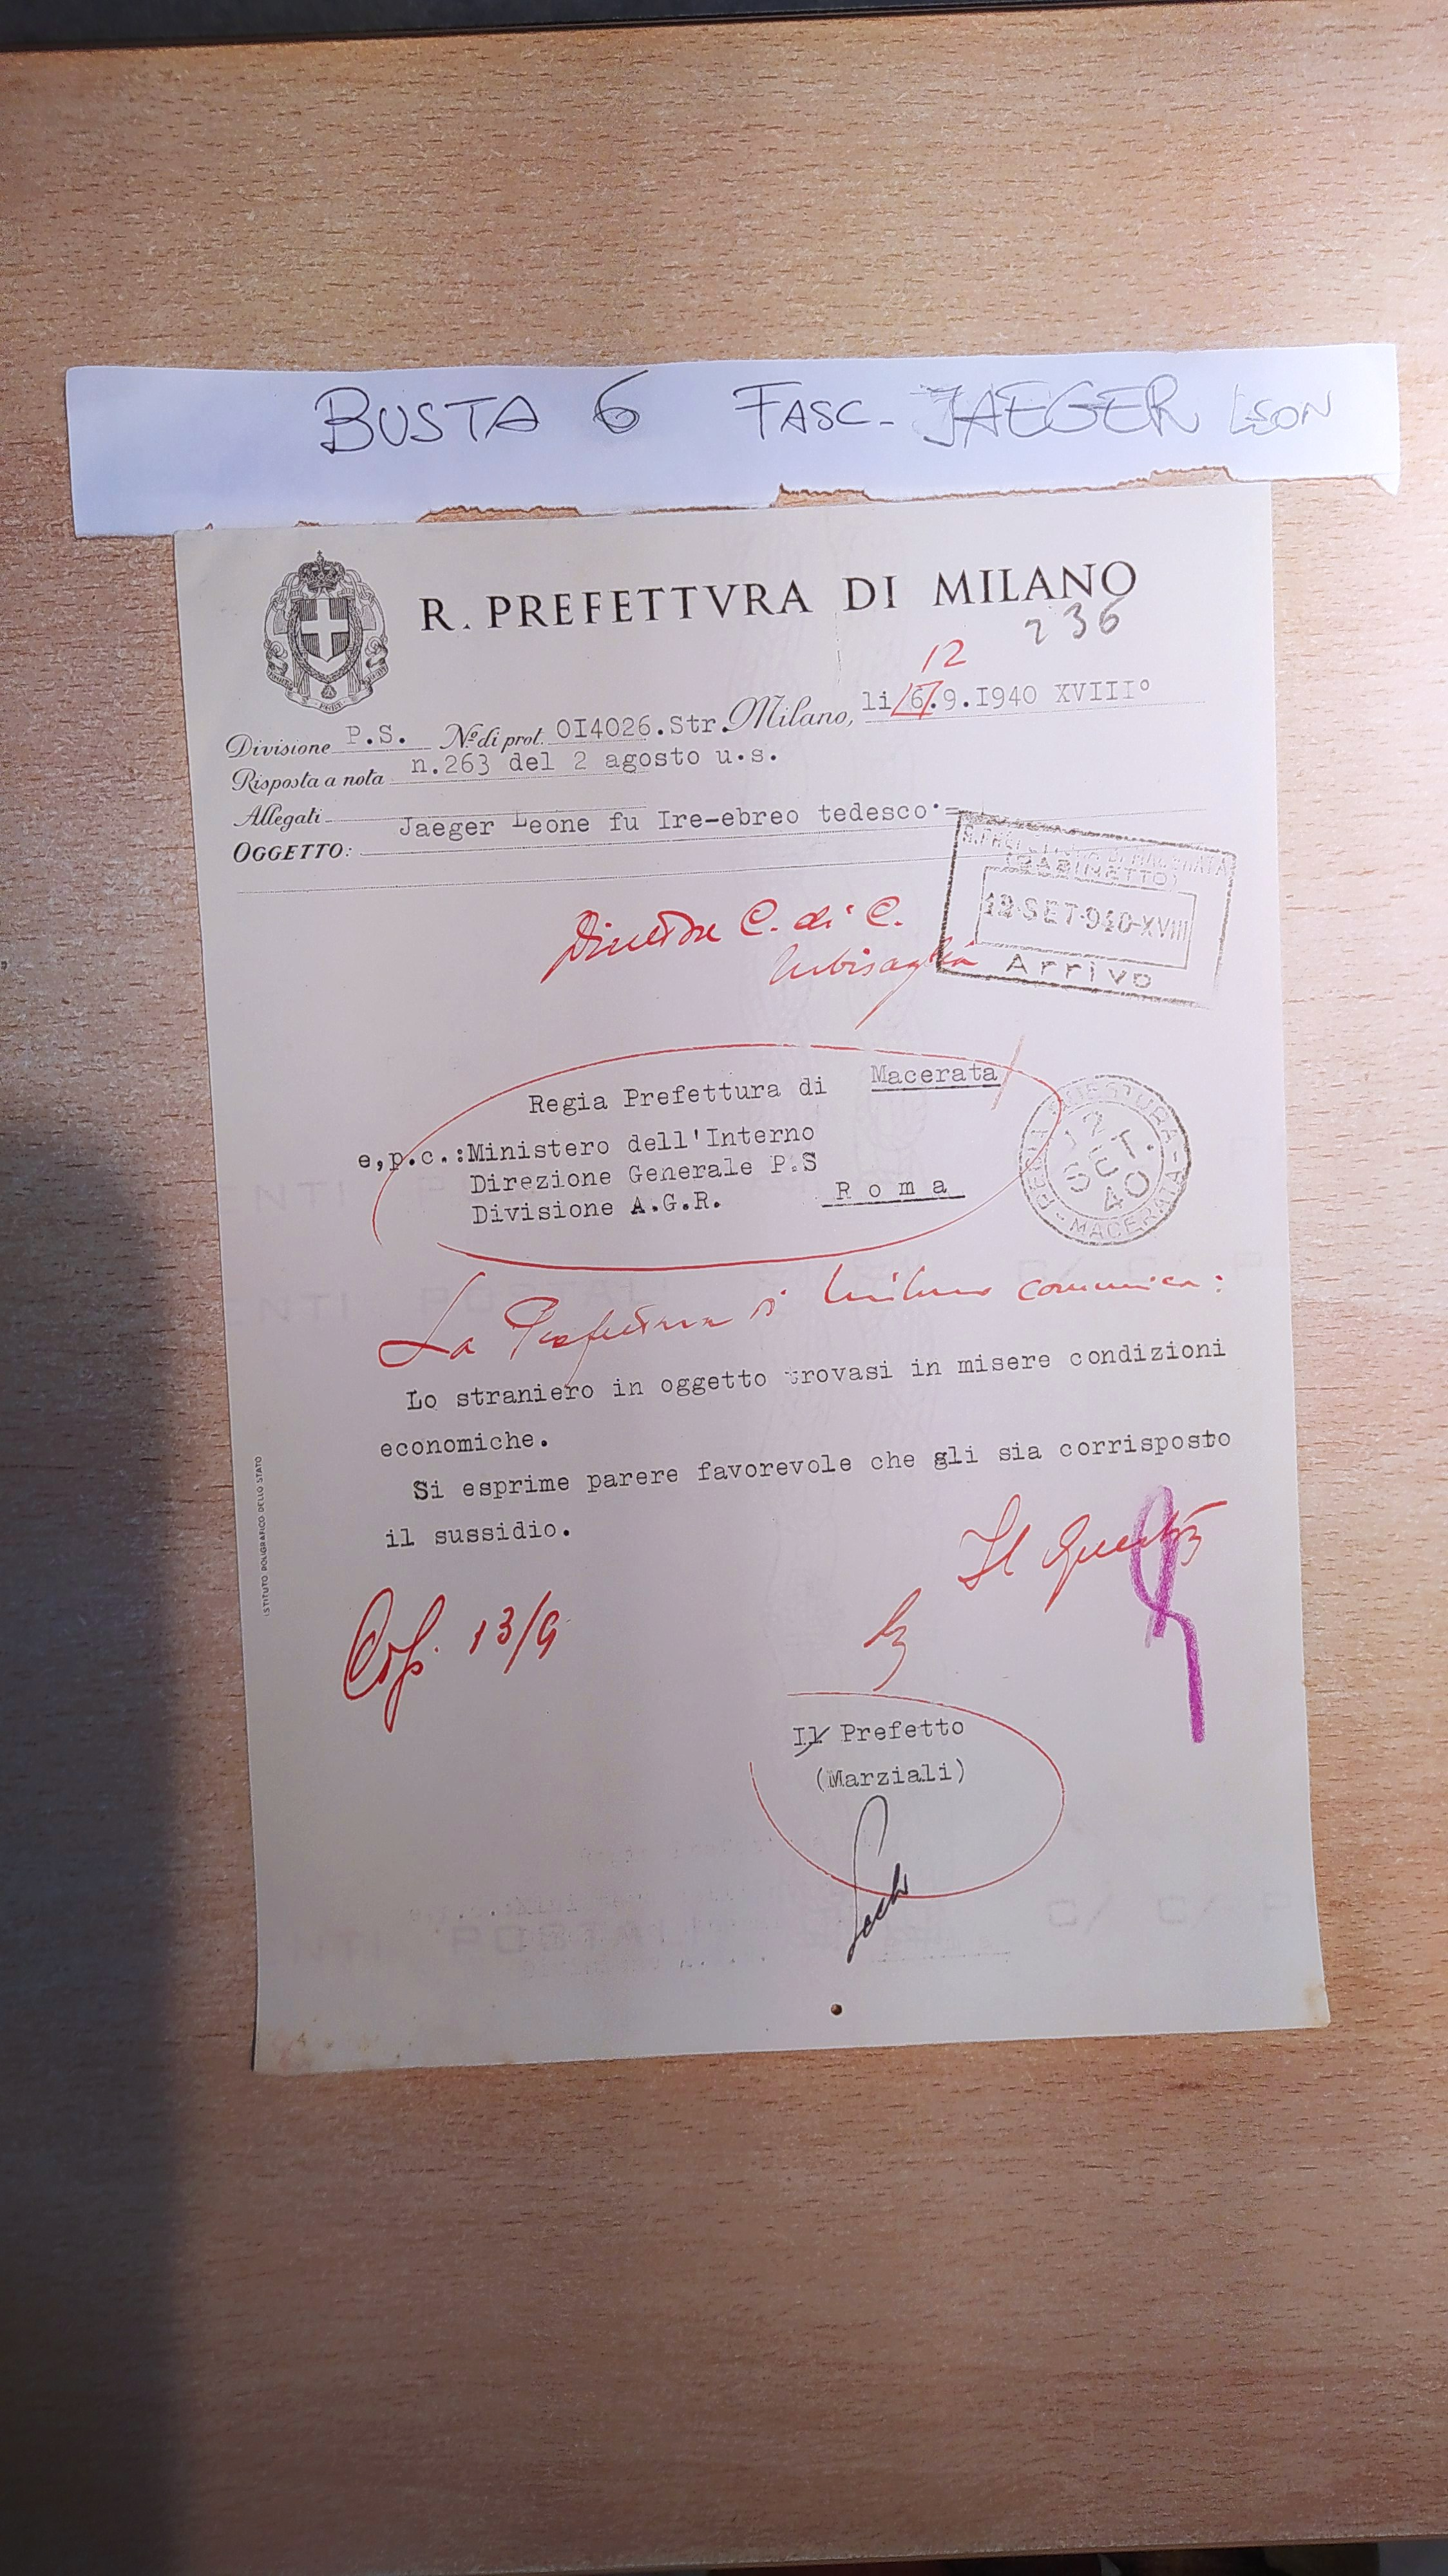stamp: (926, 805, 1246, 1014), (1016, 1072, 1193, 1246)
